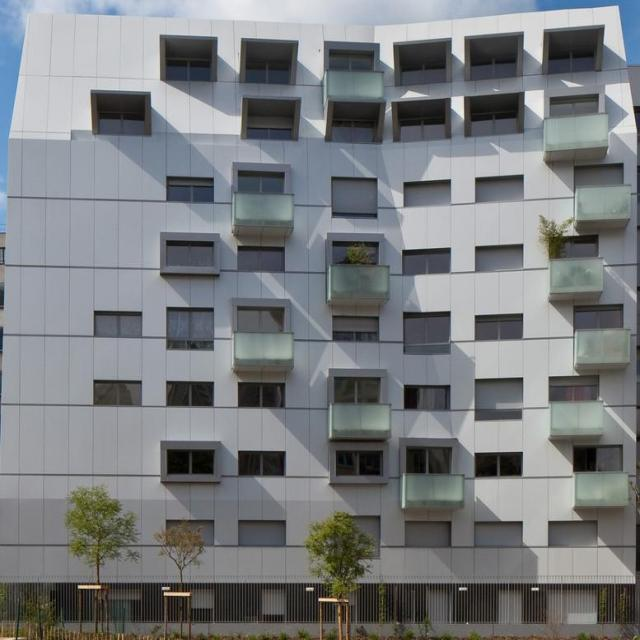Railing: (1, 584, 637, 622), (324, 264, 392, 304), (544, 113, 610, 149), (230, 191, 296, 226), (574, 327, 631, 367), (549, 398, 606, 438), (400, 474, 466, 508), (572, 468, 628, 507), (549, 257, 605, 295), (329, 402, 391, 436), (232, 331, 294, 364), (574, 185, 630, 217), (323, 70, 381, 99)
plant: (69, 493, 135, 569), (300, 516, 365, 589), (151, 522, 205, 569)
wall: (2, 6, 637, 639)
windows: (331, 176, 380, 216), (168, 311, 214, 348), (478, 382, 524, 418), (474, 109, 519, 138), (406, 316, 452, 344), (472, 54, 518, 81), (401, 114, 447, 141), (96, 312, 144, 337), (550, 48, 596, 74), (551, 522, 600, 546), (168, 520, 215, 545), (407, 521, 453, 546), (408, 448, 452, 474), (241, 520, 288, 544), (96, 382, 142, 406), (238, 383, 286, 406), (576, 447, 624, 470), (551, 376, 599, 399), (334, 379, 382, 402), (478, 522, 524, 546), (165, 59, 212, 82), (477, 454, 524, 477), (169, 450, 214, 474), (241, 452, 285, 476), (331, 119, 376, 142), (169, 382, 214, 405), (551, 97, 601, 117), (240, 310, 285, 332), (338, 452, 381, 475), (98, 117, 147, 137), (246, 64, 292, 85), (169, 245, 215, 266), (478, 180, 524, 201), (578, 310, 625, 330), (408, 387, 448, 410), (332, 245, 378, 265), (576, 167, 627, 185), (475, 247, 523, 266), (239, 250, 284, 270), (408, 184, 452, 204), (402, 63, 448, 82), (240, 174, 284, 193), (407, 254, 451, 273), (332, 54, 378, 72), (478, 321, 524, 339), (552, 238, 598, 256), (169, 186, 215, 203), (249, 128, 293, 141), (335, 329, 381, 340)
